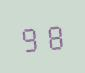eight: (42, 20, 64, 51)
nine: (19, 22, 41, 53)
